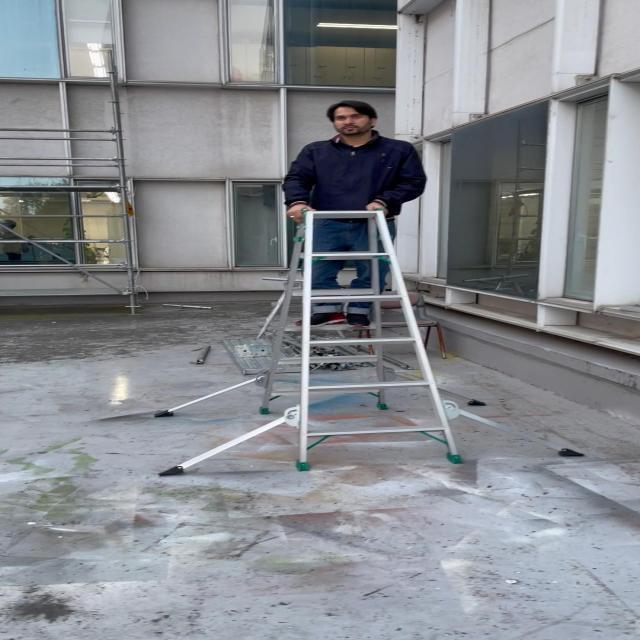boots: (144, 204, 596, 481)
vest: (260, 98, 436, 332)
